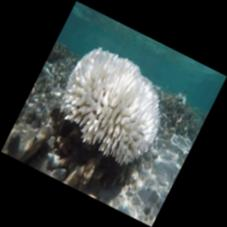bleached_corals: (46, 41, 180, 171)
